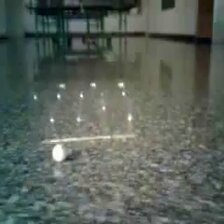w: (53, 143, 67, 162)
